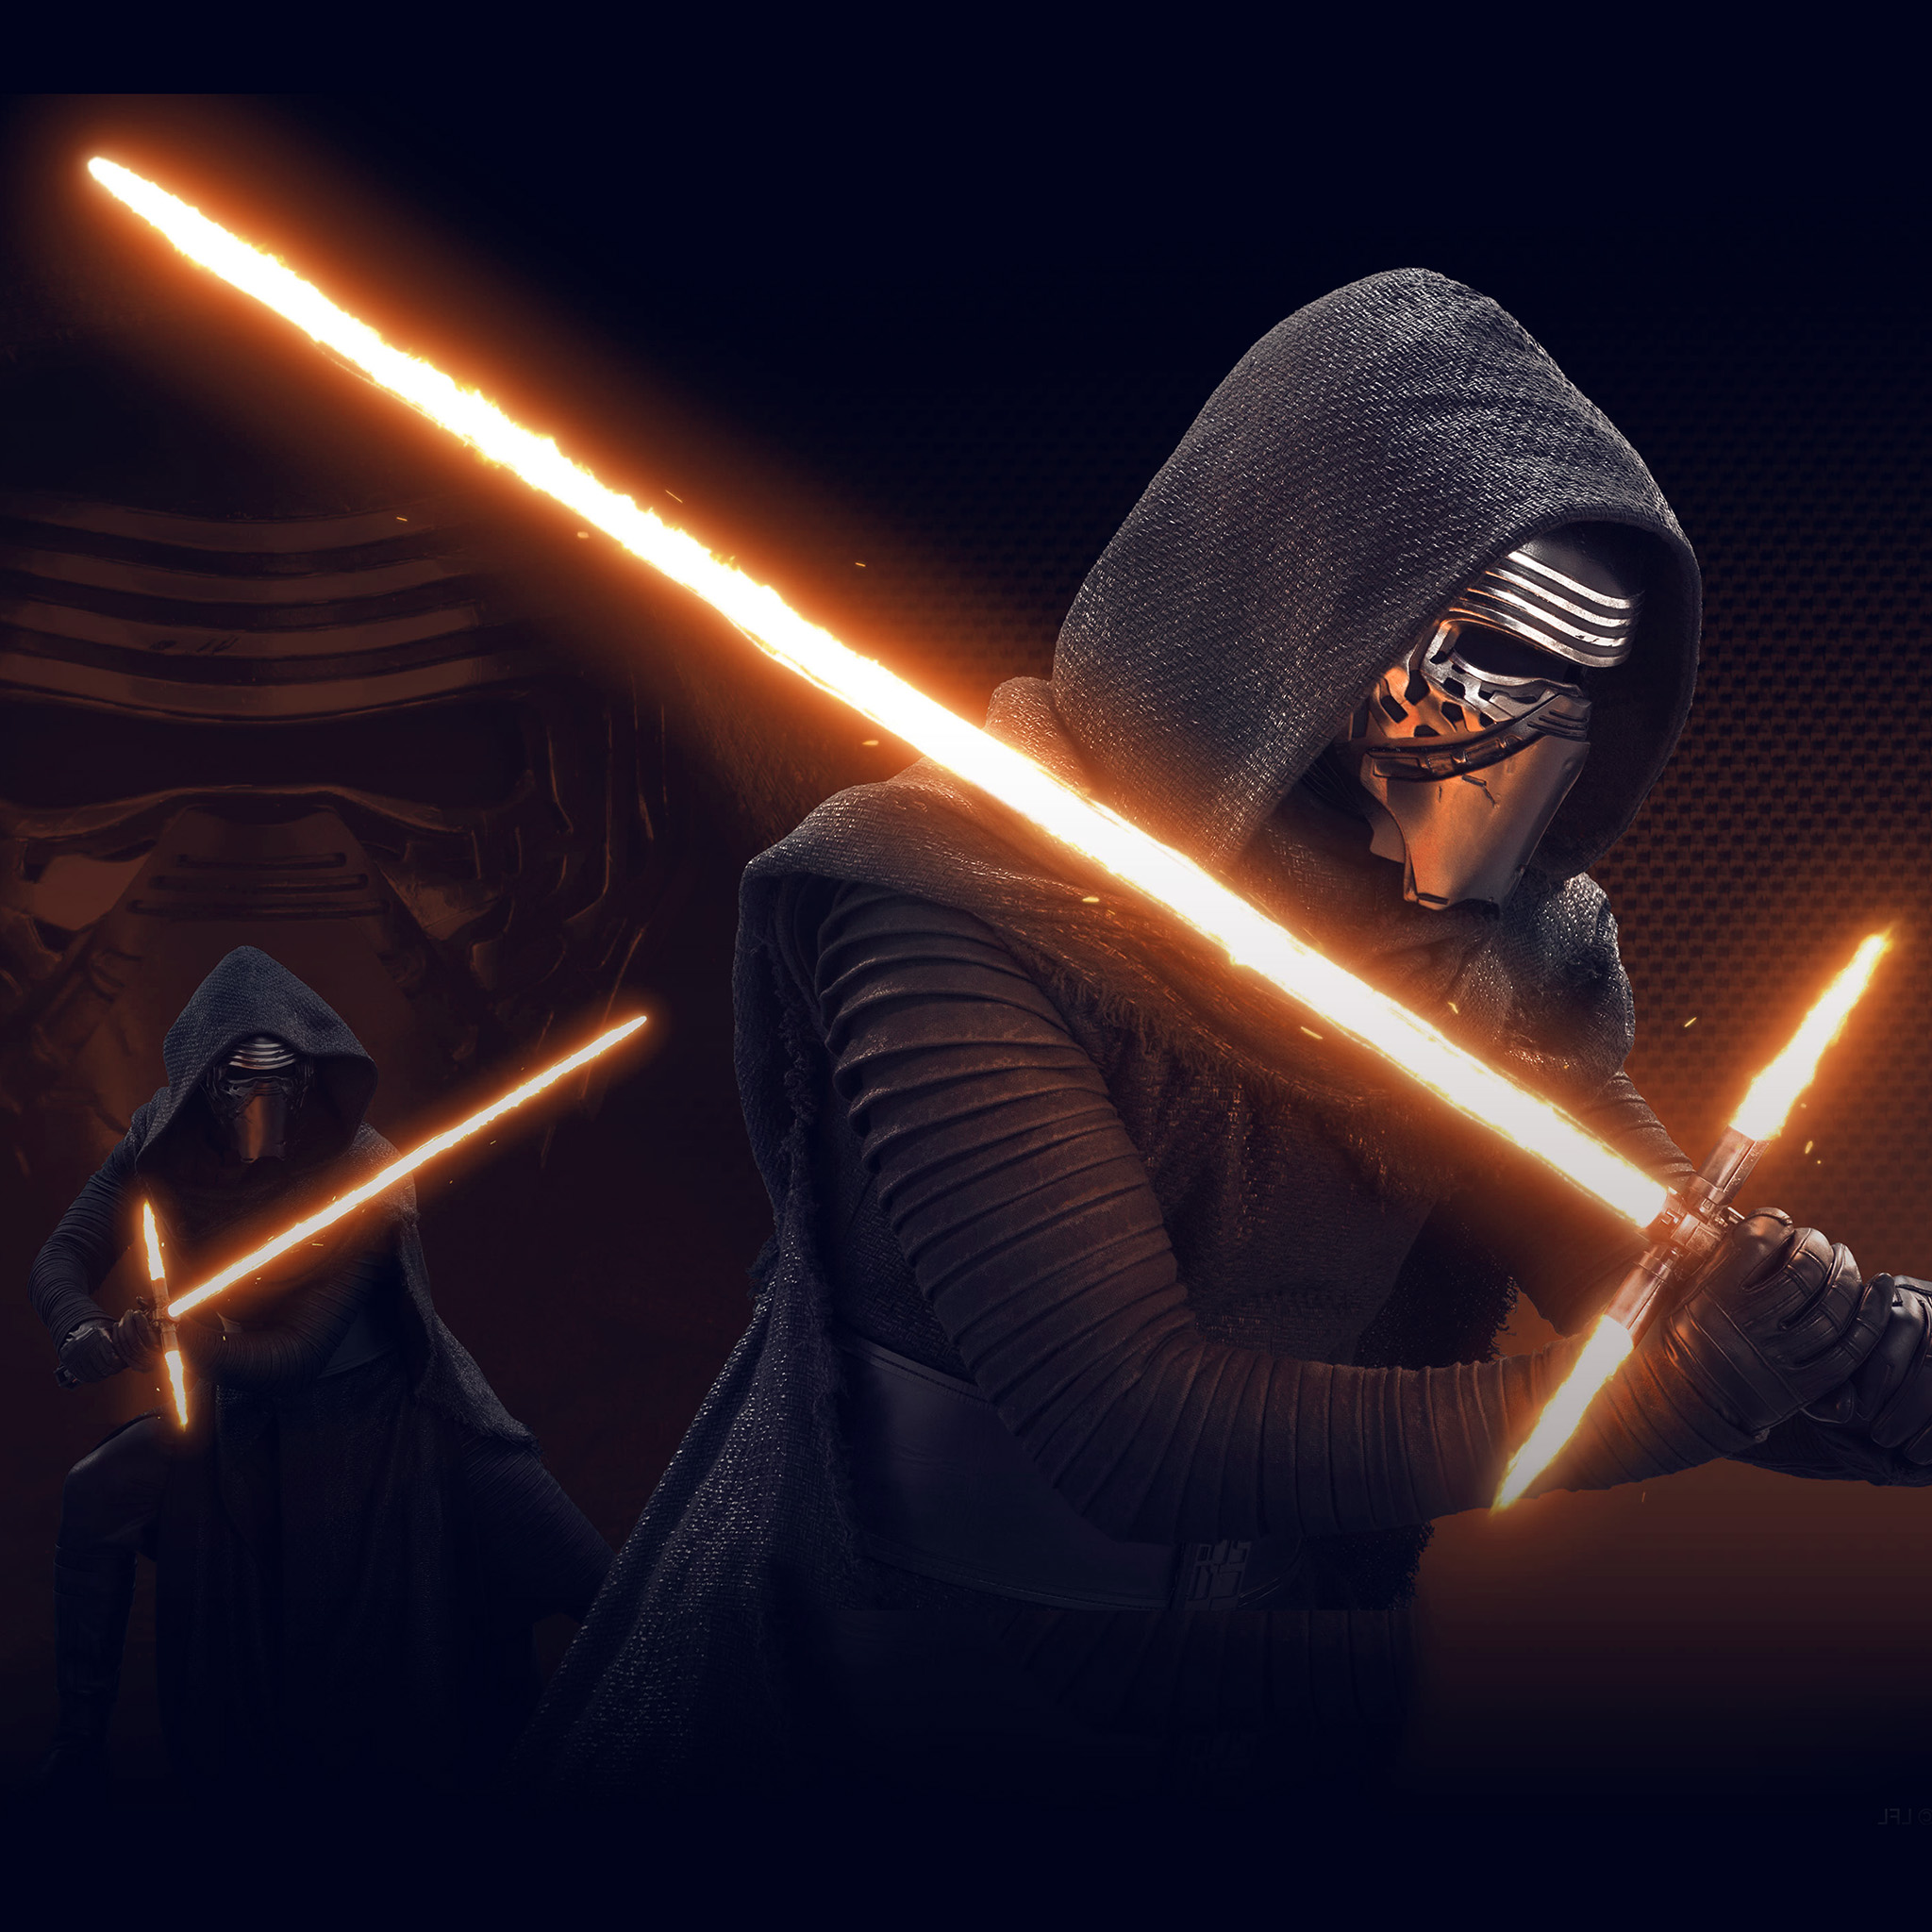lightsaber: (44, 53, 1900, 1461)
